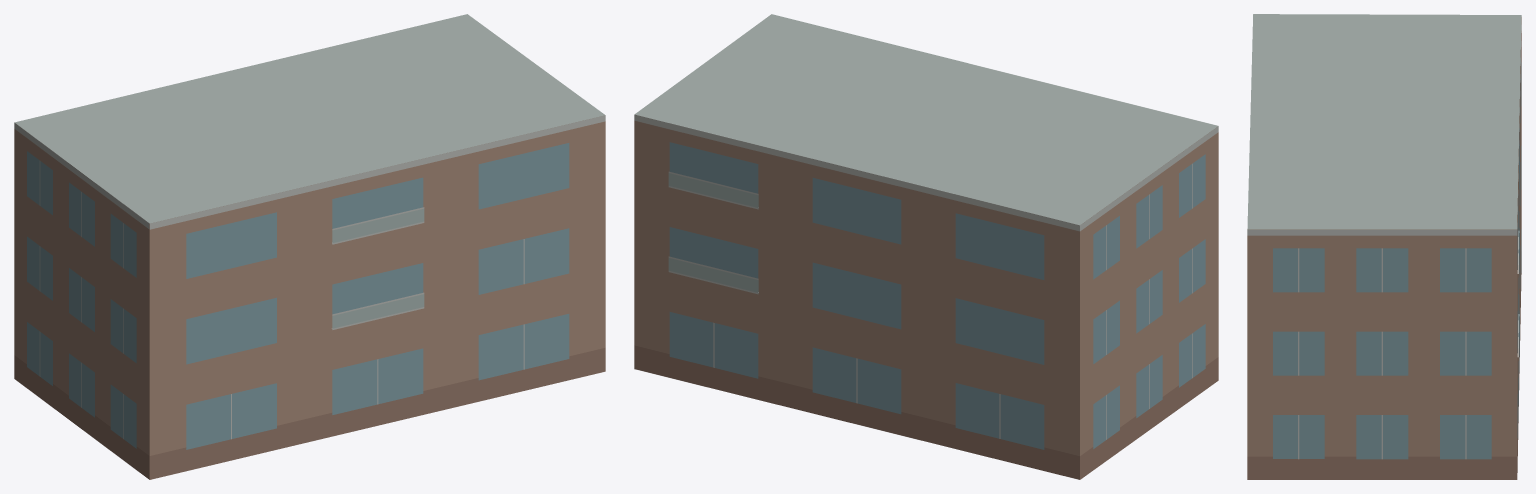
File: survey-upis-32840268.glb
The picture shows the model from 3 angles, left to right: view 1: azimuth 30°, elevation 25°; view 2: azimuth 150°, elevation 25°; view 3: azimuth 270°, elevation 25°; orthographic projection. The views are drawn at different scales.
Visible parts, largest first — view 1: survey-upis-32840268.tmp; view 2: survey-upis-32840268.tmp; view 3: survey-upis-32840268.tmp.
Part boxes in pixels (<box>): survey-upis-32840268.tmp: <box>14,14,605,479</box>; survey-upis-32840268.tmp: <box>634,14,1218,479</box>; survey-upis-32840268.tmp: <box>1247,14,1521,479</box>.
Bounding box in the file's own units: 18.79 × 10.15 × 10.09.
